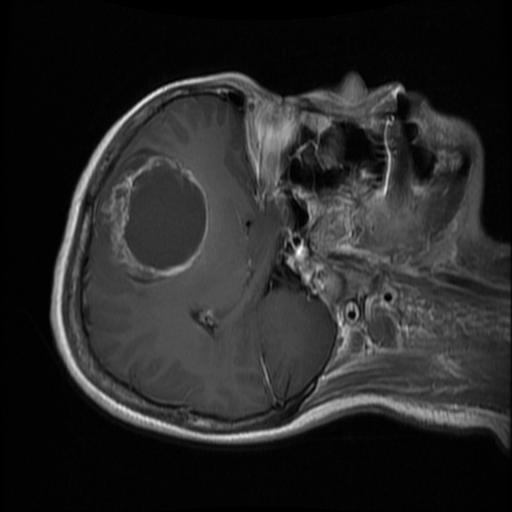glioma: (106, 158, 211, 282)
